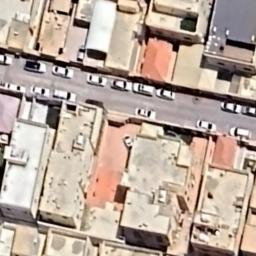SUV: (18, 57, 50, 75), (225, 124, 256, 140), (50, 87, 79, 104), (131, 81, 155, 99)
sedan: (50, 64, 76, 82), (218, 98, 243, 116), (109, 76, 133, 94), (85, 72, 109, 88), (195, 117, 219, 133), (132, 107, 161, 119), (28, 84, 54, 96), (154, 88, 176, 102), (2, 81, 25, 93), (0, 50, 14, 68), (83, 98, 108, 108), (240, 104, 256, 119)
